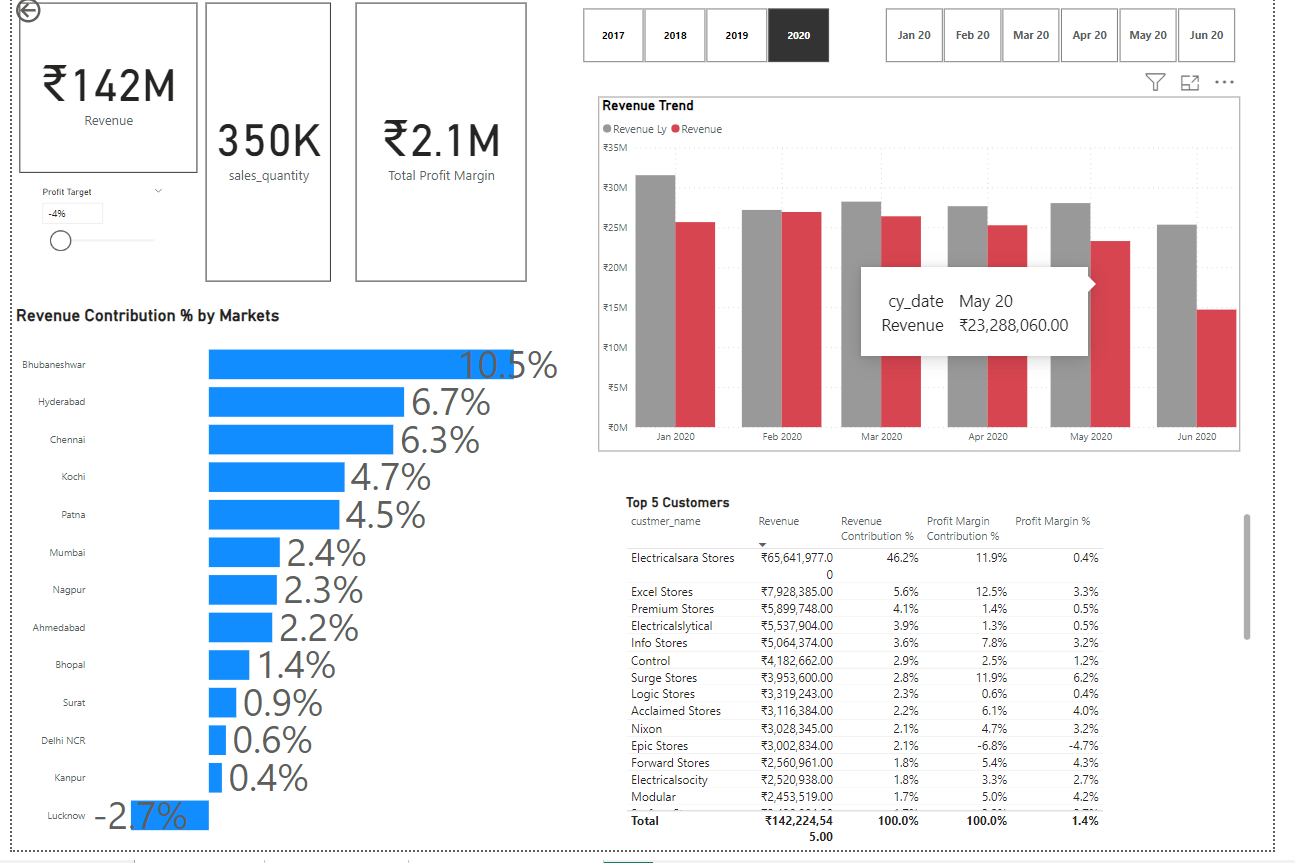

This screenshot's page, from the dashboard's own definition file:
{"tool":"powerbi","page":{"name":"Performance Insights","canvas":[1550,1052],"ordinal":2},"visuals":[{"type":"card","fields":{"Values":["BaseMeasures.Revenue"]},"box":[9.2,10.8,218.1,208.9],"z":0},{"type":"card","fields":{"Values":["BaseMeasures.sales_quantity"]},"box":[237.6,10.5,153.7,342.4],"z":1000},{"type":"slicer","fields":{"Values":["sales date.cy_date"]},"box":[1047.4,10.8,479.2,79.9],"z":2000},{"type":"tableEx","title":"Top 5 Customers","fields":{"Values":["sales customers.custmer_name","BaseMeasures.Revenue","BaseMeasures.Revenue Contribution %","BaseMeasures.Profit Margin Contribution %","BaseMeasures.Profit Margin %"]},"box":[749.5,615,777.5,435],"z":3000},{"type":"clusteredColumnChart","title":"Revenue Trend","fields":{"Category":["sales date.cy_date"],"Y":["BaseMeasures.Revenue Ly","BaseMeasures.Revenue"]},"box":[720.3,125.9,789.4,436.2],"z":4000},{"type":"card","fields":{"Values":["BaseMeasures.Total Profit Margin"]},"box":[422.8,10.5,209.7,342.4],"z":5000},{"type":"barChart","title":"Revenue Contribution % by Markets","fields":{"Category":["sales markets.zone","sales markets.markets_name","sales customers.custmer_name","sales products.product_code"],"Y":["BaseMeasures.Profit Margin %"]},"box":[0,382.6,676.1,669.1],"z":6000},{"type":"slicer","fields":{"Values":["Profit Target.Profit Target"]},"box":[24.5,232.4,173,120.5],"z":7000},{"type":"actionButton","box":[0,0,100,40],"z":8000},{"type":"slicer","fields":{"Values":["sales date.year"]},"box":[675.7,10.8,351.7,79.9],"z":9000}]}

Visuals, with their boxes in screenshot pixels (x1, y1, x2, y2), scaled from the page's 1550x1052 canvas onto the 1295x863 screenshot:
card - BaseMeasures.Revenue: box(8, 9, 190, 180)
card - BaseMeasures.sales_quantity: box(199, 9, 327, 289)
slicer - sales date.cy_date: box(875, 9, 1275, 74)
"Top 5 Customers" tableEx: box(626, 505, 1276, 861)
"Revenue Trend" clusteredColumnChart: box(602, 103, 1261, 461)
card - BaseMeasures.Total Profit Margin: box(353, 9, 528, 289)
"Revenue Contribution % by Markets" barChart: box(0, 314, 565, 862)
slicer - Profit Target.Profit Target: box(20, 191, 165, 289)
actionButton: box(0, 0, 84, 33)
slicer - sales date.year: box(565, 9, 858, 74)
